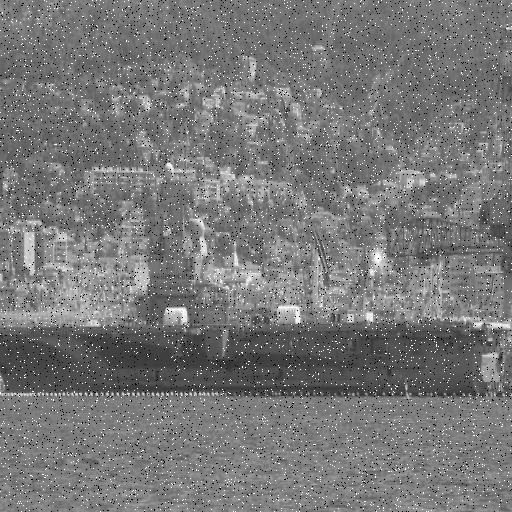Portanaves: (1, 133, 512, 401)
